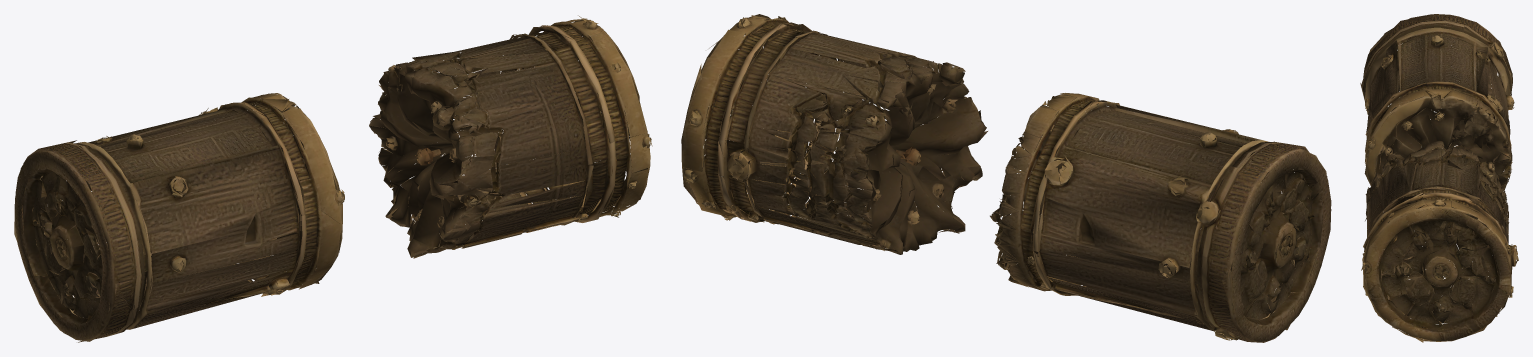
Rendered from ch9_sheared_resonance_conduit_LOD1.glb.
3 renders of one model, left to right at view 1: azimuth 30°, elevation 25°; view 2: azimuth 150°, elevation 25°; view 3: azimuth 270°, elevation 25°, orthographic. The views are drawn at different scales.
Visible parts, largest first — view 1: tripo_node_ba16dd95-4afa-4617-b60e-56446d4bd330; view 2: tripo_node_ba16dd95-4afa-4617-b60e-56446d4bd330; view 3: tripo_node_ba16dd95-4afa-4617-b60e-56446d4bd330.
Part boxes in pixels (x1,y1,x2,y2): tripo_node_ba16dd95-4afa-4617-b60e-56446d4bd330: (14,15,652,342); tripo_node_ba16dd95-4afa-4617-b60e-56446d4bd330: (681,14,1331,342); tripo_node_ba16dd95-4afa-4617-b60e-56446d4bd330: (1360,14,1518,342).
Size of the model in its own units: 1 by 0.3275 by 0.3378.
Materials: 1 (1 with a texture image).
